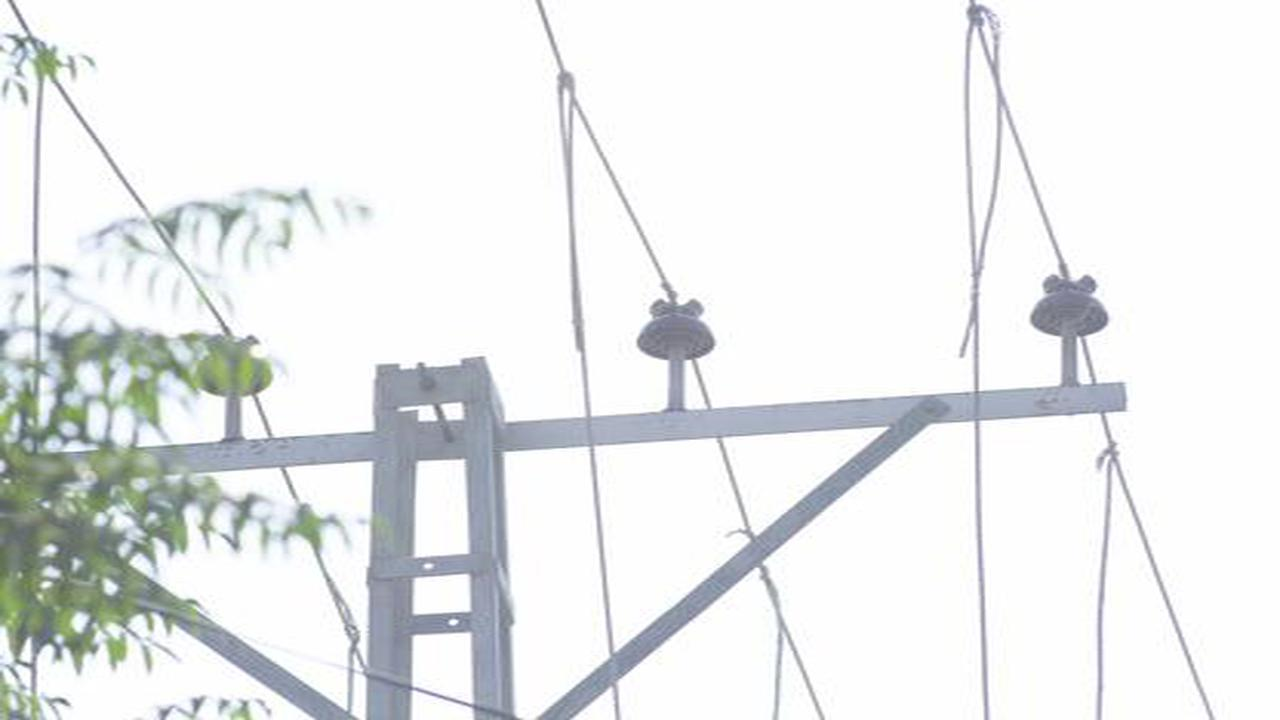insulator_pin: (1027, 271, 1110, 343), (633, 294, 718, 361)
